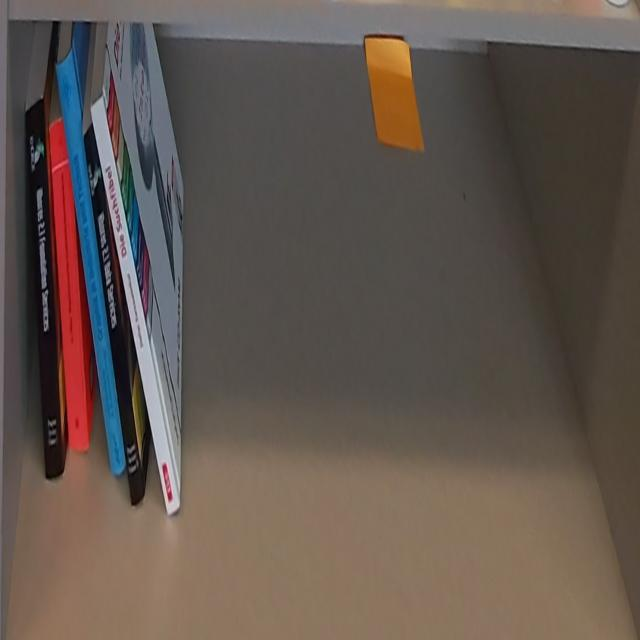Book Spine: (90, 94, 180, 516), (55, 50, 126, 479), (82, 119, 145, 507), (23, 96, 65, 481), (48, 119, 89, 454)
